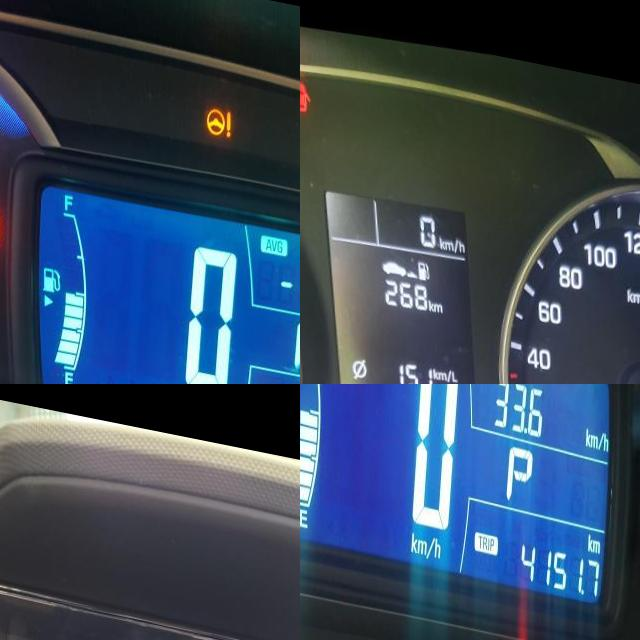Doors: (300, 73, 311, 109)
